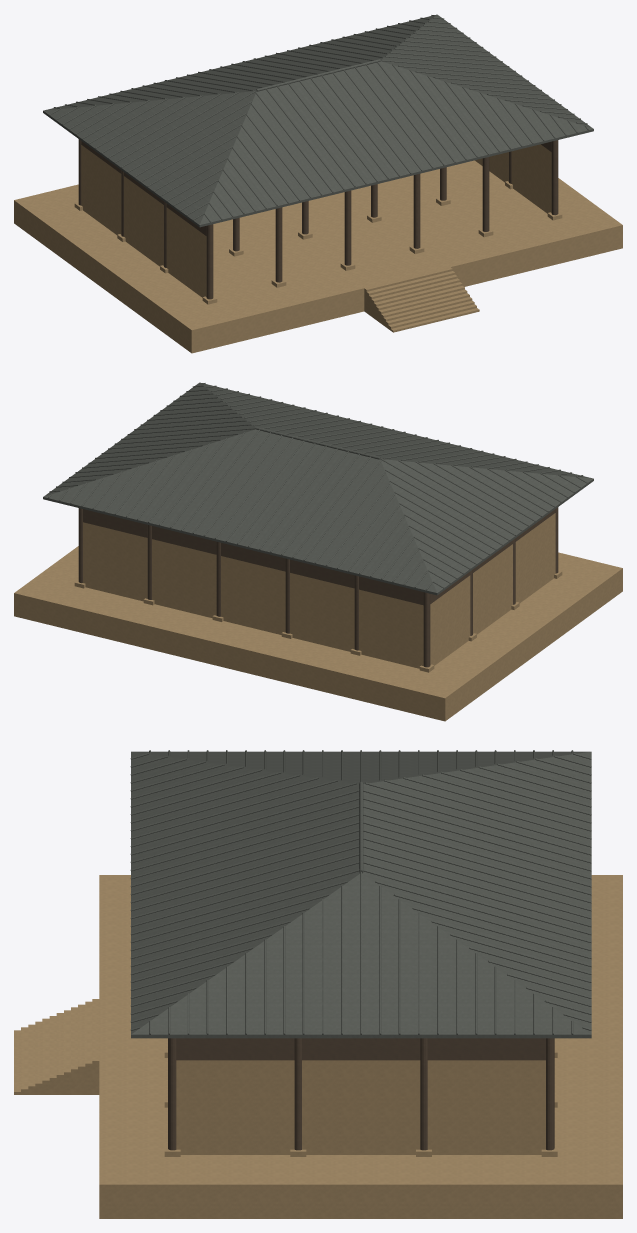
Rendered from deyang-A-LOD1.glb.
3 views of the same model, one above another, from view 1: azimuth 30°, elevation 25°; view 2: azimuth 150°, elevation 25°; view 3: azimuth 270°, elevation 25° (orthographic). The views are drawn at different scales.
Visible parts, largest first — view 1: deyang-A-static_earth, deyang-A-static_tile, deyang-A-static_timber; view 2: deyang-A-static_tile, deyang-A-static_earth, deyang-A-static_timber; view 3: deyang-A-static_tile, deyang-A-static_earth, deyang-A-static_timber.
Boxes of the visible parts, x1,y1,x2,y2 form: deyang-A-static_earth: [14, 144, 622, 353]; deyang-A-static_tile: [43, 14, 593, 227]; deyang-A-static_timber: [78, 139, 558, 299]; deyang-A-static_tile: [43, 382, 593, 595]; deyang-A-static_earth: [14, 513, 622, 721]; deyang-A-static_timber: [78, 507, 558, 667]; deyang-A-static_tile: [130, 750, 591, 1038]; deyang-A-static_earth: [14, 875, 622, 1218]; deyang-A-static_timber: [168, 1038, 554, 1150].
Bounding box in the file's own units: 35 × 12.54 × 29.08.
3 materials, 3 textured.
